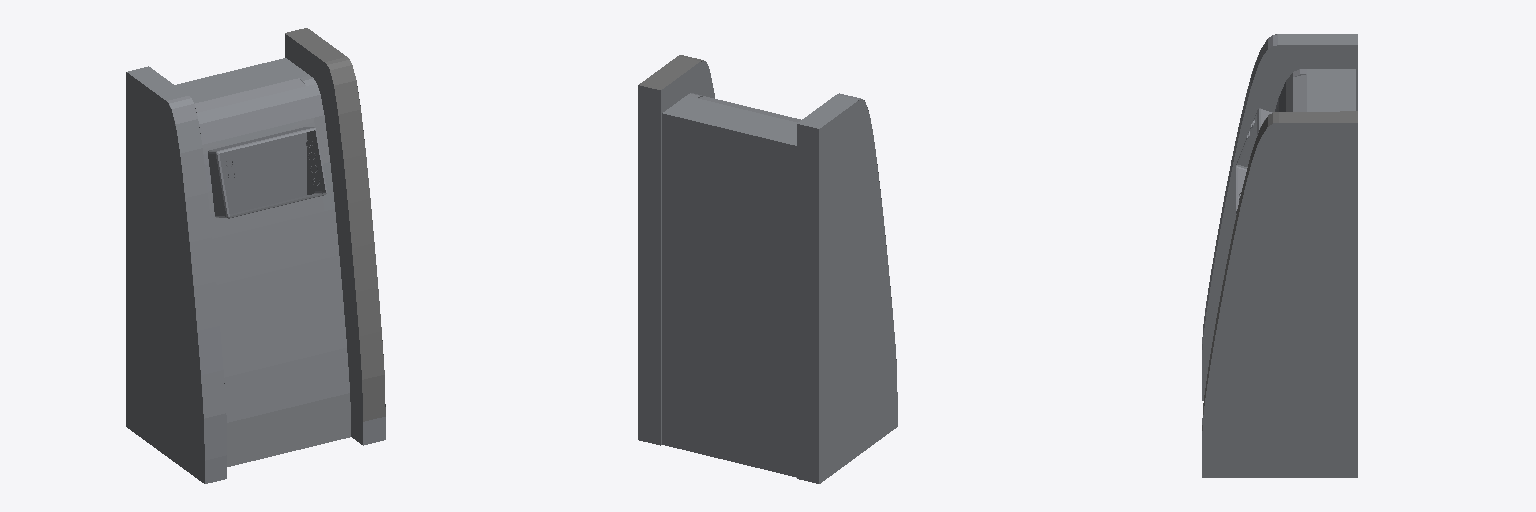
File: Body.obj
The picture shows the model from 3 angles: view 1: azimuth 30°, elevation 25°; view 2: azimuth 150°, elevation 25°; view 3: azimuth 270°, elevation 25°; orthographic projection.
Parts seen in each view (by area): view 1: group1 nurbsToPoly55, group1 nurbsToPoly46, group1 nurbsToPoly47, group1 nurbsToPoly39, group1 nurbsToPoly54, group1 nurbsToPoly42, group1 nurbsToPoly52, group1 nurbsToPoly50, group1 nurbsToPoly43, group1 nurbsToPoly16, group1 nurbsToPoly44; view 2: group1 nurbsToPoly52, group1 nurbsToPoly46, group1 nurbsToPoly50, group1 nurbsToPoly40, group1 nurbsToPoly43, group1 nurbsToPoly41, group1 nurbsToPoly55, group1 nurbsToPoly54, group1 nurbsToPoly39, group1 nurbsToPoly47; view 3: group1 nurbsToPoly60, group1 nurbsToPoly56, group1 nurbsToPoly55, group1 nurbsToPoly47, group1 nurbsToPoly39.
Boxes of the visible parts, x1=… form: group1 nurbsToPoly55: x1=175, y1=61, x2=340, y2=466; group1 nurbsToPoly46: x1=126, y1=72, x2=204, y2=483; group1 nurbsToPoly47: x1=285, y1=28, x2=385, y2=421; group1 nurbsToPoly39: x1=127, y1=66, x2=226, y2=460; group1 nurbsToPoly54: x1=285, y1=34, x2=362, y2=444; group1 nurbsToPoly42: x1=275, y1=58, x2=350, y2=438; group1 nurbsToPoly52: x1=169, y1=105, x2=274, y2=332; group1 nurbsToPoly50: x1=286, y1=79, x2=306, y2=200; group1 nurbsToPoly43: x1=275, y1=137, x2=285, y2=202; group1 nurbsToPoly16: x1=208, y1=153, x2=225, y2=216; group1 nurbsToPoly44: x1=363, y1=417, x2=385, y2=445; group1 nurbsToPoly52: x1=673, y1=116, x2=786, y2=474; group1 nurbsToPoly46: x1=819, y1=99, x2=897, y2=483; group1 nurbsToPoly50: x1=638, y1=85, x2=660, y2=445; group1 nurbsToPoly40: x1=797, y1=124, x2=818, y2=483; group1 nurbsToPoly43: x1=662, y1=113, x2=672, y2=446; group1 nurbsToPoly41: x1=787, y1=144, x2=796, y2=476; group1 nurbsToPoly55: x1=674, y1=96, x2=800, y2=143; group1 nurbsToPoly54: x1=661, y1=61, x2=714, y2=444; group1 nurbsToPoly39: x1=797, y1=93, x2=896, y2=359; group1 nurbsToPoly47: x1=639, y1=55, x2=703, y2=89; group1 nurbsToPoly60: x1=1202, y1=123, x2=1357, y2=477; group1 nurbsToPoly56: x1=1202, y1=45, x2=1357, y2=400; group1 nurbsToPoly55: x1=1276, y1=74, x2=1355, y2=111; group1 nurbsToPoly47: x1=1202, y1=111, x2=1357, y2=430; group1 nurbsToPoly39: x1=1202, y1=34, x2=1357, y2=349.
Size of the model in its own units: 2.2 by 4.13 by 1.65.